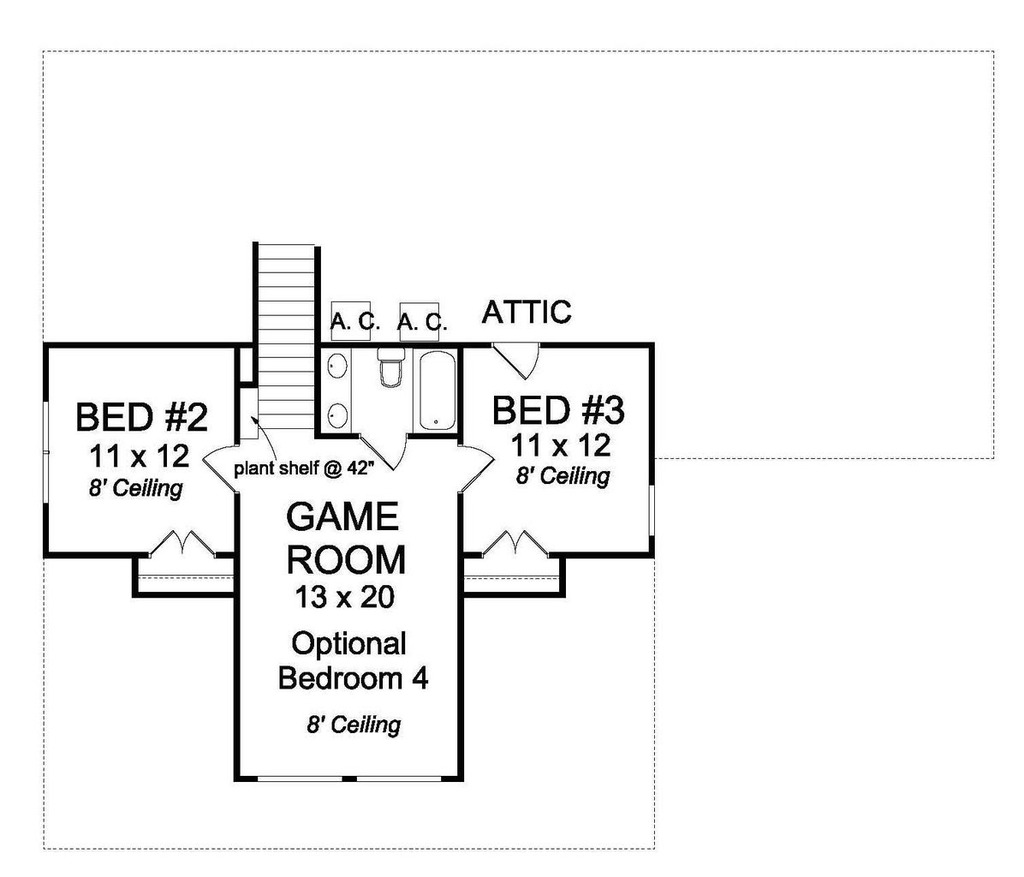door: (489, 329, 552, 390), (140, 526, 229, 562), (194, 444, 248, 501), (358, 424, 412, 480), (479, 529, 558, 563), (447, 443, 493, 494)
large_sink: (373, 347, 404, 394)
small_sink: (319, 345, 351, 433)
stairs: (237, 236, 317, 445)
tub: (413, 347, 460, 440)
window: (33, 401, 63, 520), (635, 483, 669, 549), (359, 772, 439, 787), (258, 775, 347, 786)
